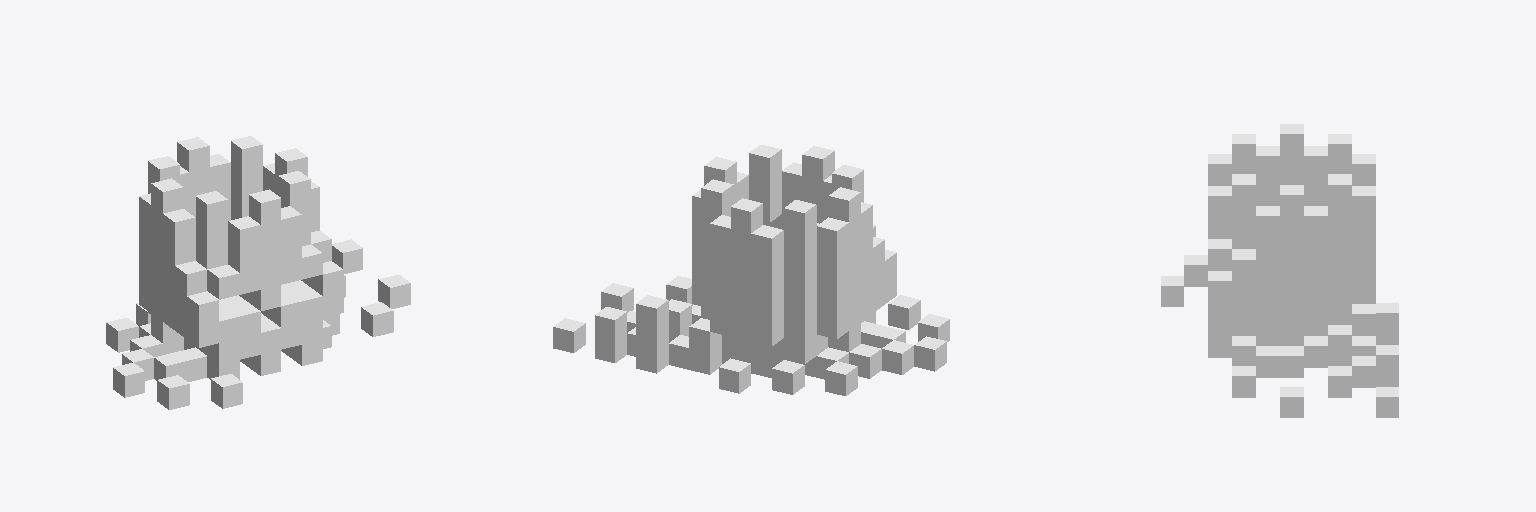
File: SkullCrown-1.obj
3 renders of one model, left to right at view 1: azimuth 30°, elevation 25°; view 2: azimuth 150°, elevation 25°; view 3: azimuth 270°, elevation 25°, orthographic.
Parts seen in each view (by area): view 1: object 1; view 2: object 1; view 3: object 1.
Part boxes in pixels (x1,y1,x2,y2): object 1: (106, 136, 410, 409); object 1: (553, 145, 949, 395); object 1: (1161, 124, 1398, 417).
Size of the model in its own units: 1.5 by 0.8 by 1.